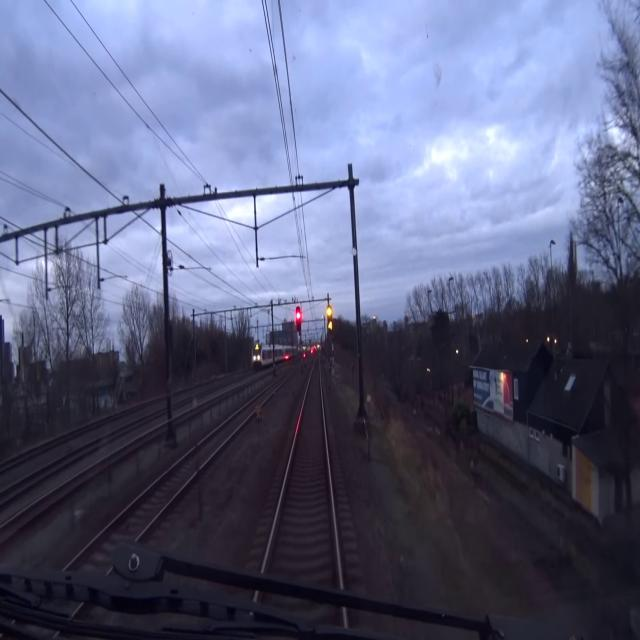rail-track: (73, 372, 290, 569), (266, 359, 338, 581), (0, 447, 131, 539), (0, 478, 34, 500)
